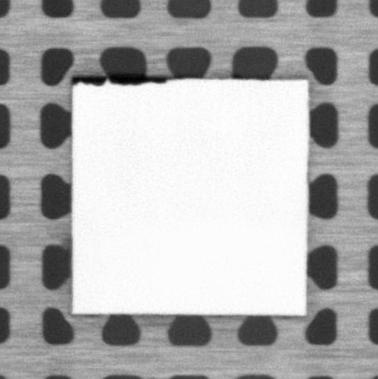DIE_BROKEN: (70, 72, 172, 86)
